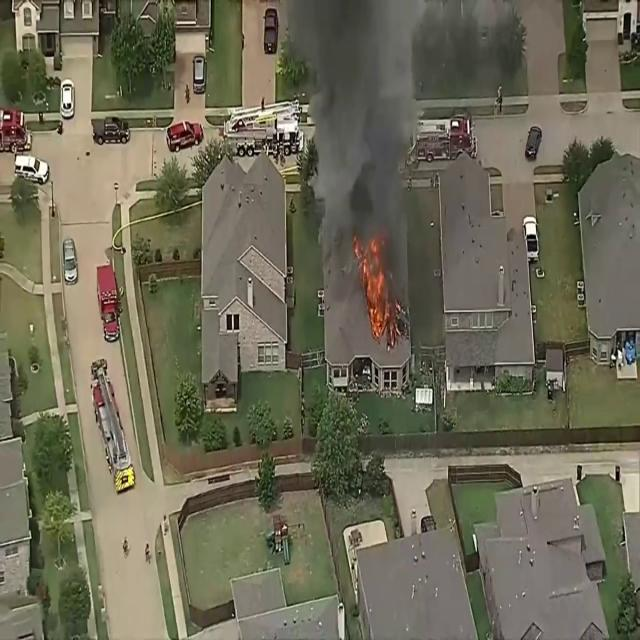Fire: (354, 229, 396, 341)
Smoke: (298, 0, 424, 299)
